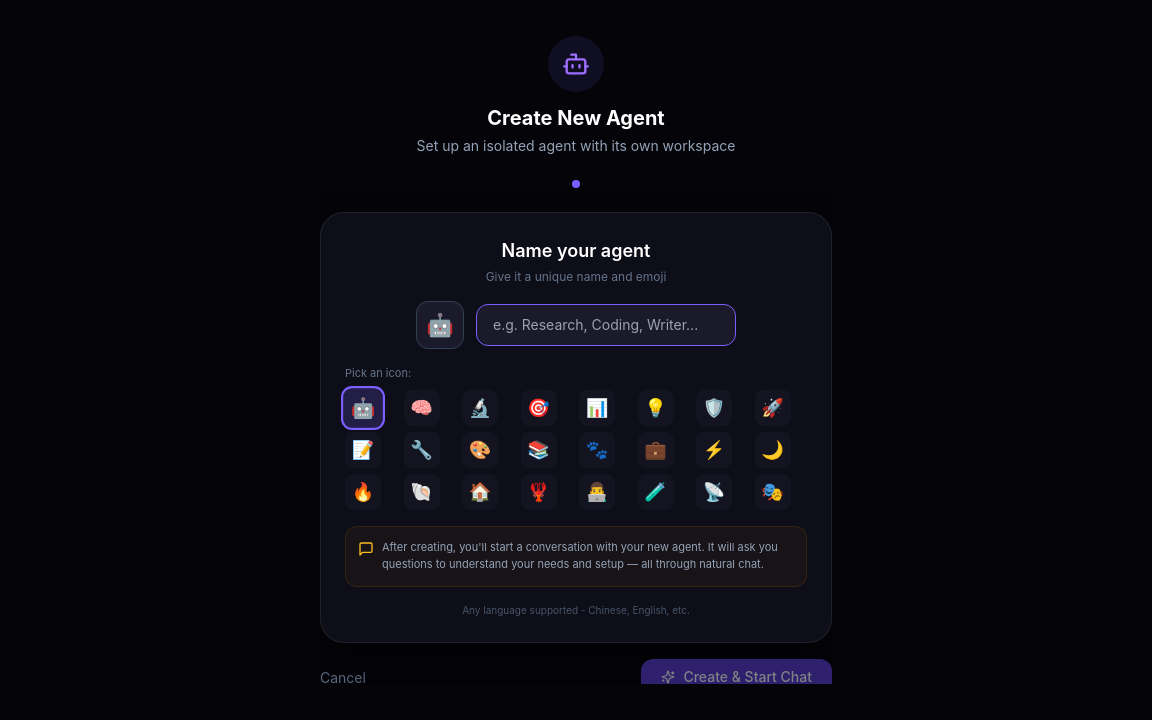
Test: AgentWizard › shows error when creation fails (single-step)
Type "test" into the field with placeholder "e.g. Research, Coding, Writer...".
click(606, 325); type("test")  # box [476,304,736,346]
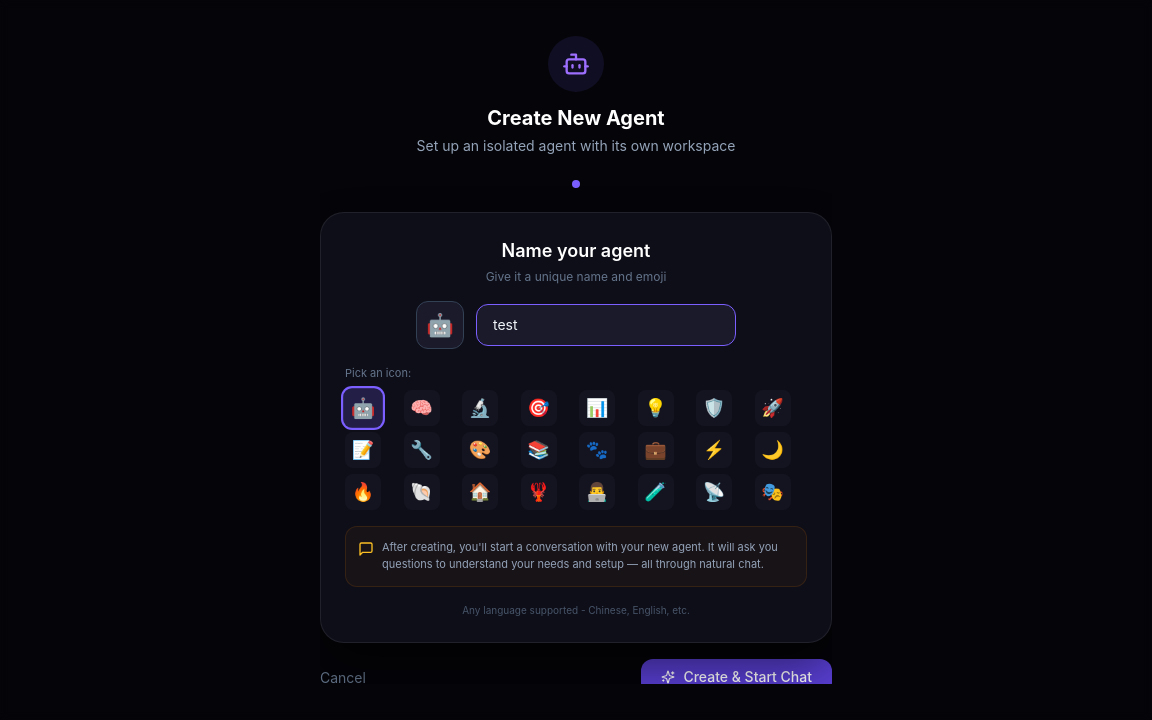
Click the button with test id "agent-create-btn".
click(737, 677)  # box [641,659,832,695]
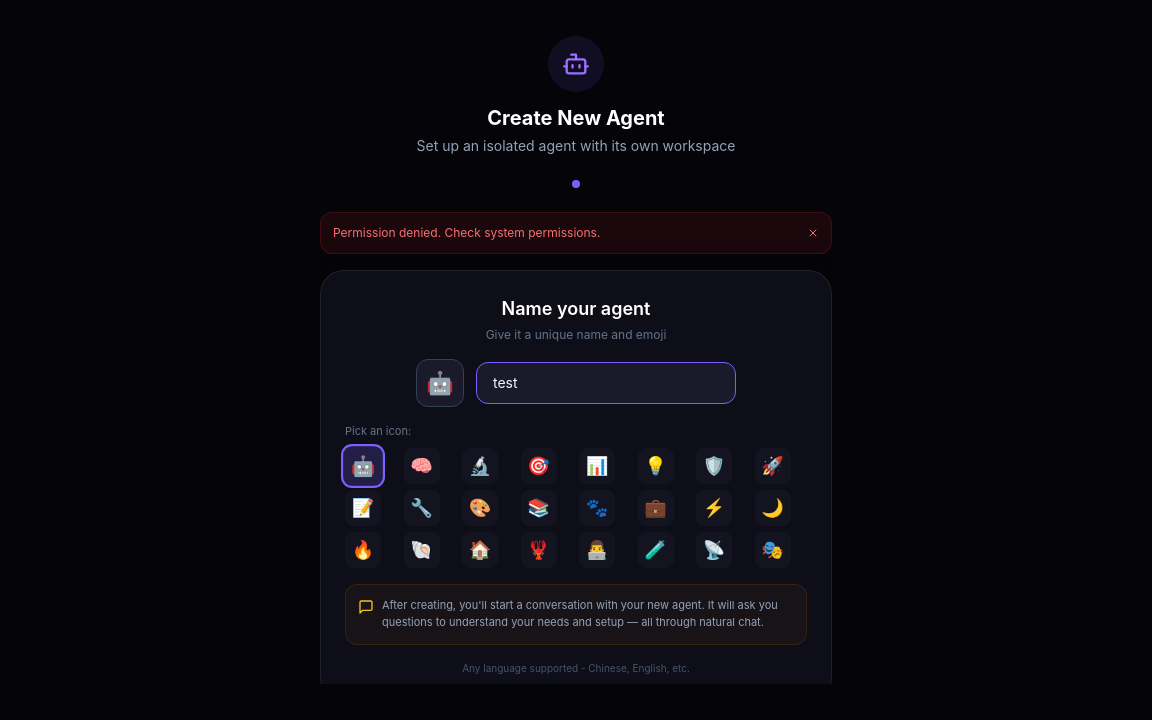
Check: the text "Permission denied. Check system permissions." is shown, box [333,225,600,240]
